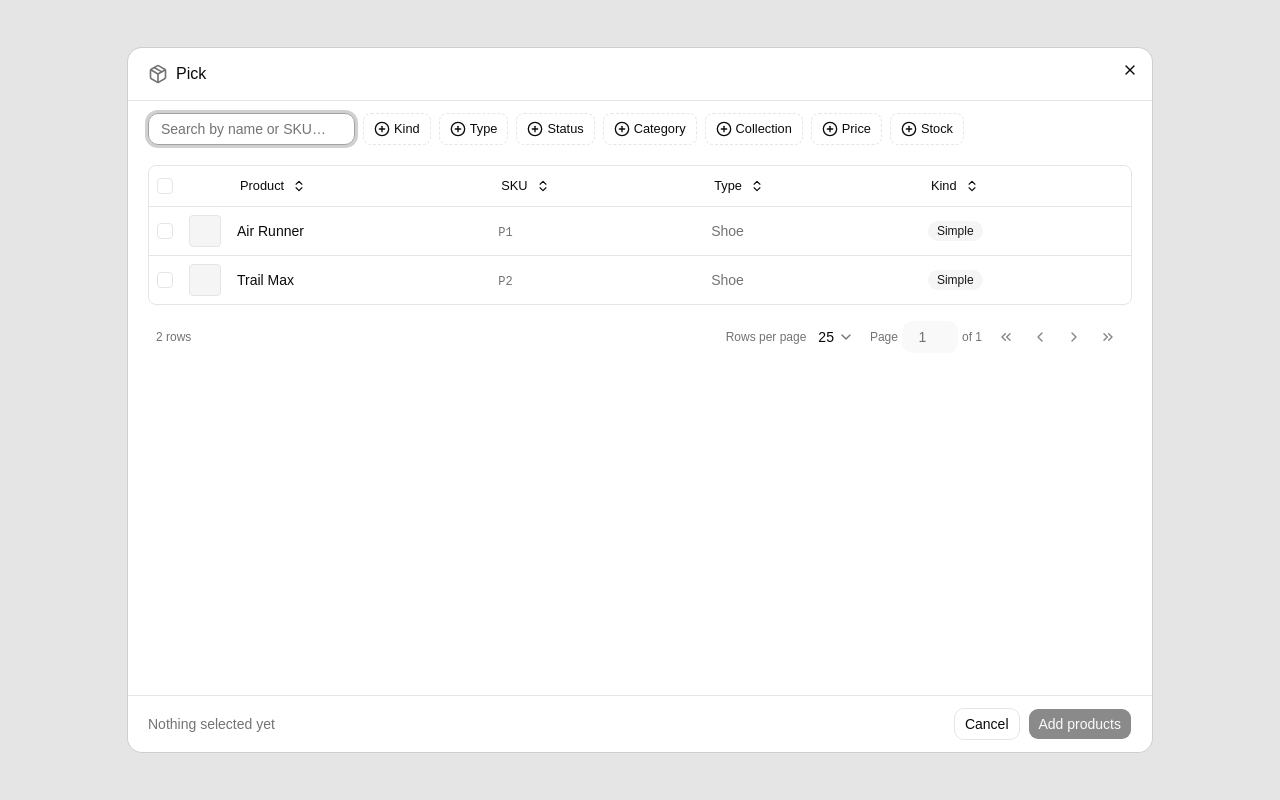
Scenario: ProductPickerDialog › keeps selections after a returned error and closes after retry succeeds
Click the checkbox named "Select Air Runner" at (165, 230), box left=157, top=222, right=173, bottom=238
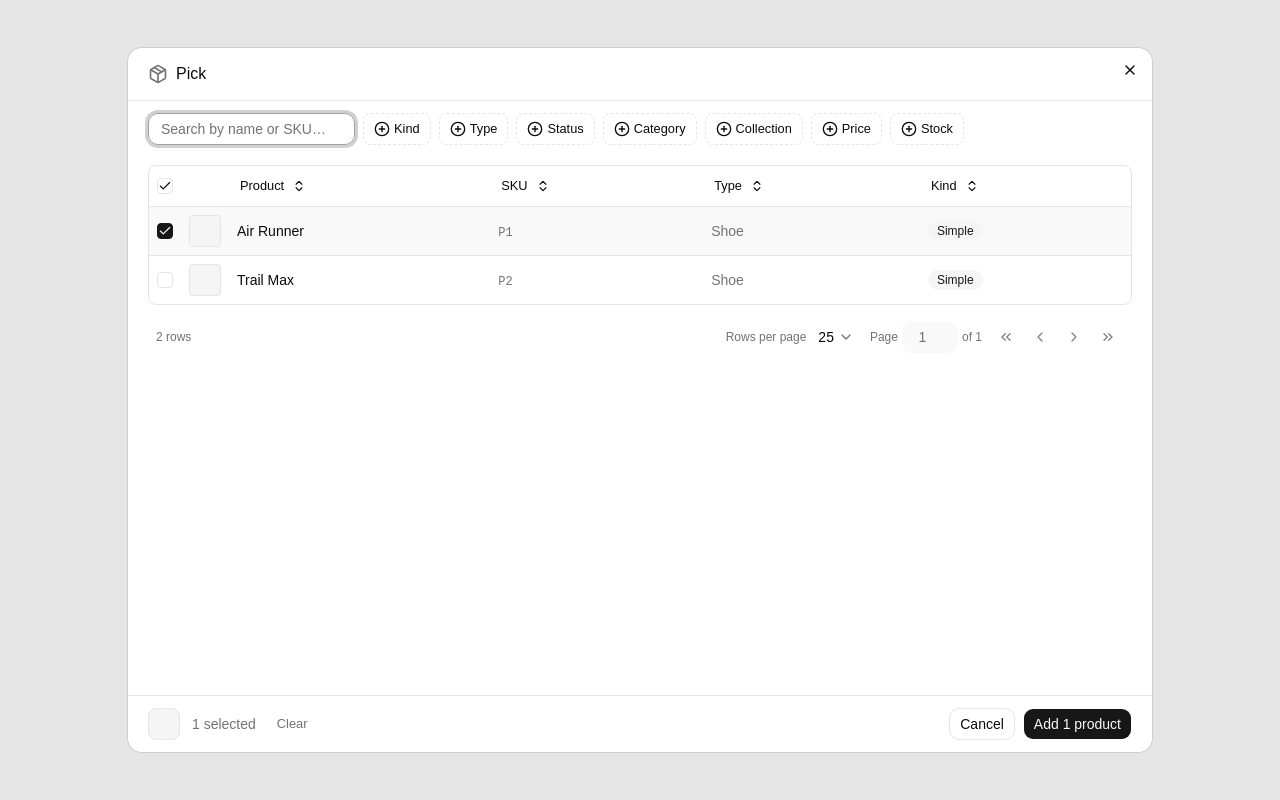
Click the button "Add 1 product" at (1077, 724), box left=1023, top=708, right=1132, bottom=740
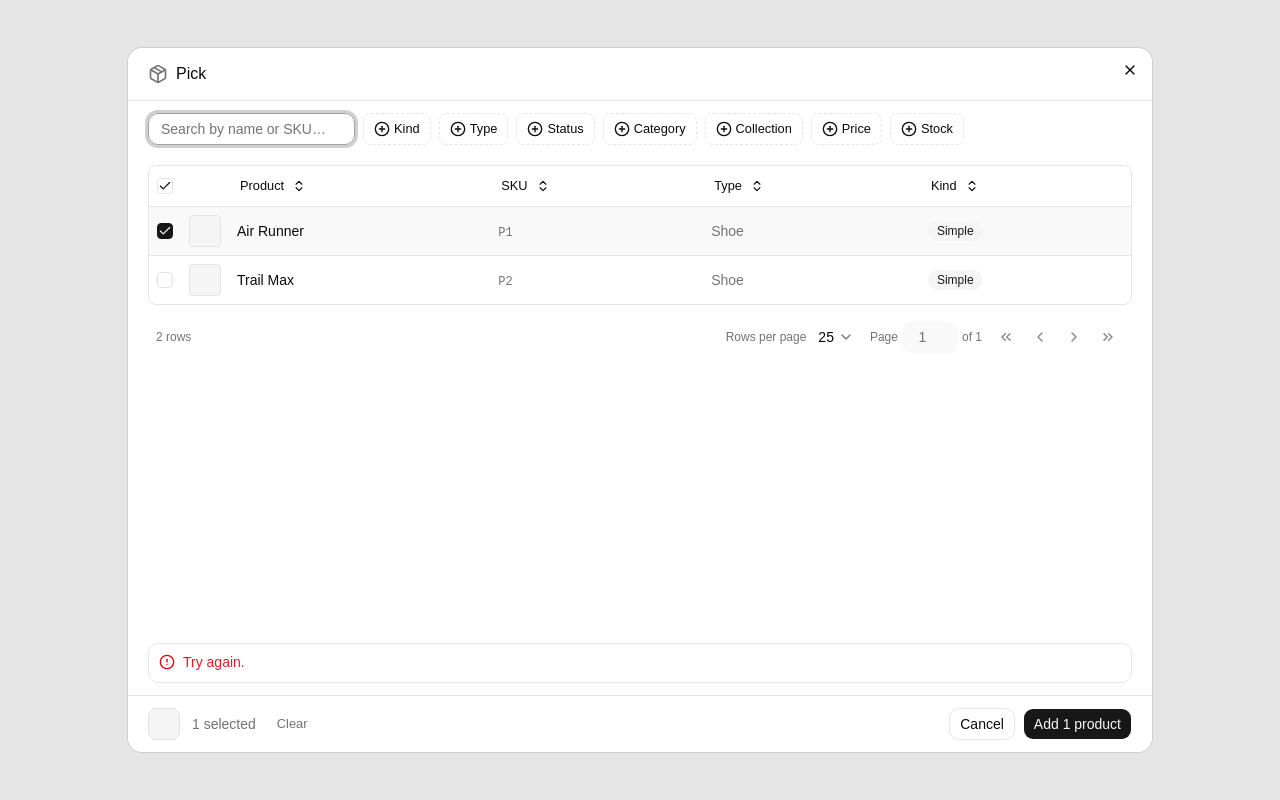
Result: the checkbox named "Select Air Runner" is checked at left=157, top=222, right=173, bottom=238
Result: the text "Try again." is shown at left=183, top=654, right=245, bottom=670
Click the button "Add 1 product" at (1077, 724), box left=1023, top=708, right=1132, bottom=740
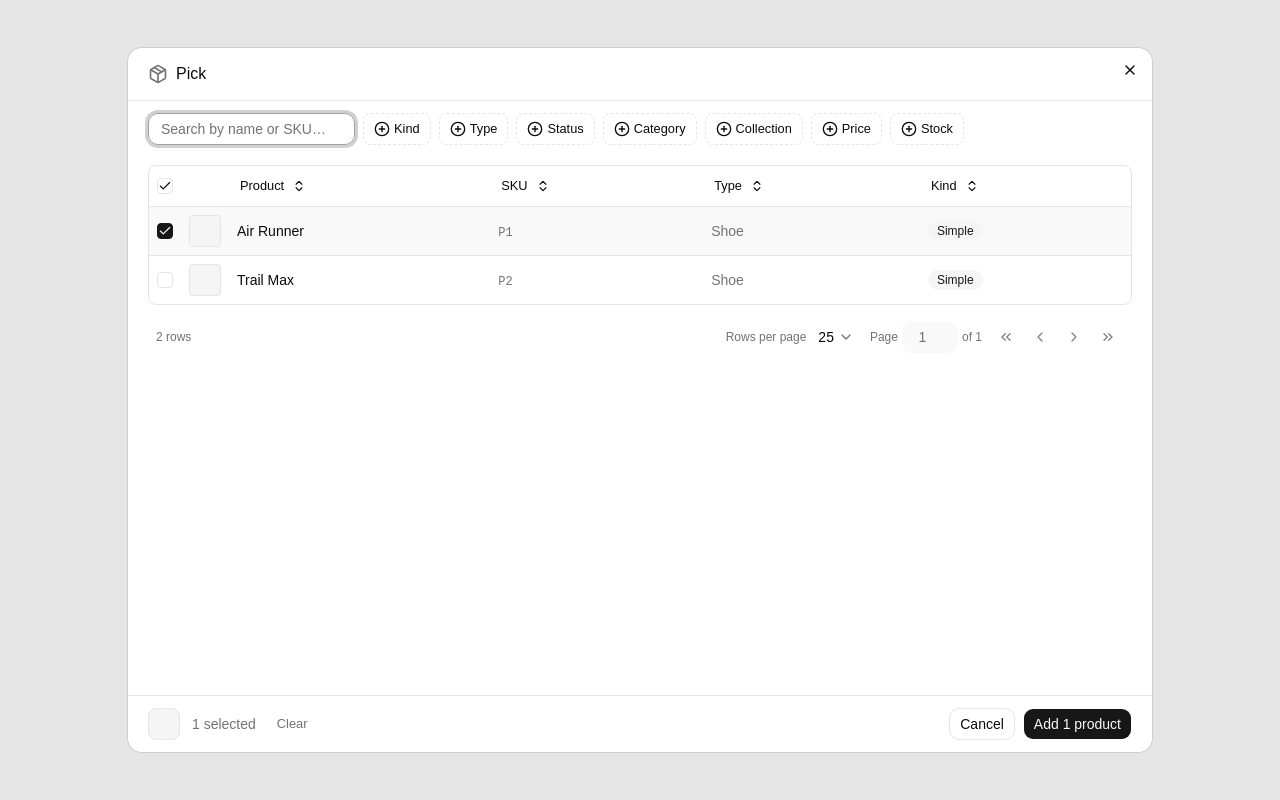
Result: the text "Try again." is gone
